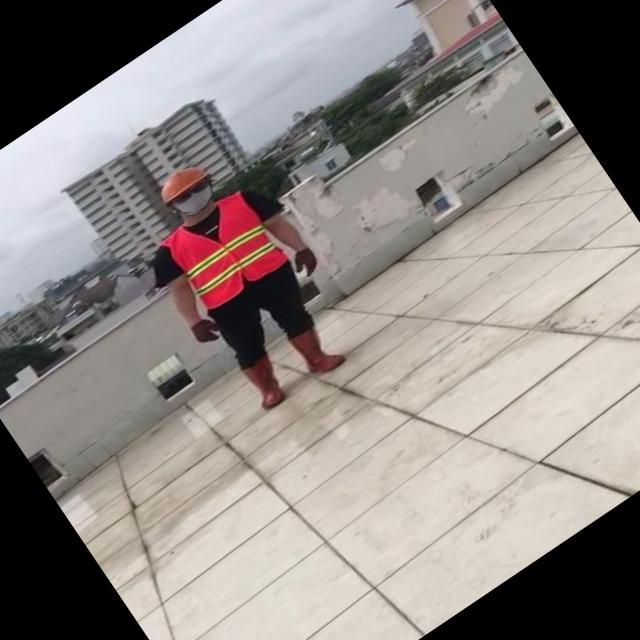hard_hat: (148, 156, 214, 208)
safety_vest: (159, 184, 292, 314)
vehicle: (100, 122, 390, 434)
work_boots: (282, 318, 347, 385), (238, 354, 292, 413)
